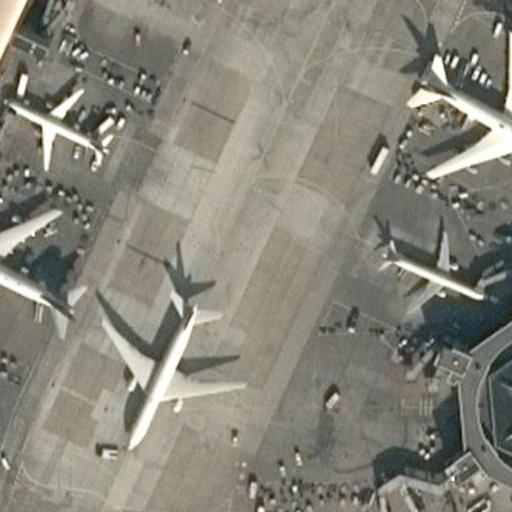Aircraft: (93, 275, 237, 457), (397, 30, 512, 183), (0, 211, 80, 353), (11, 65, 116, 162), (377, 227, 480, 319)
